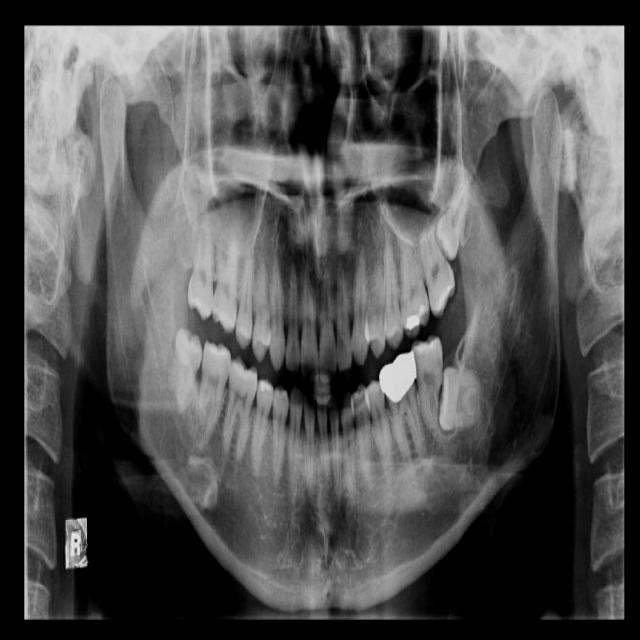Crown: (379, 351, 417, 408)
Filling: (405, 306, 423, 331), (258, 380, 272, 396)
impacted tooth: (438, 163, 471, 260), (166, 328, 201, 415), (440, 366, 484, 431)
